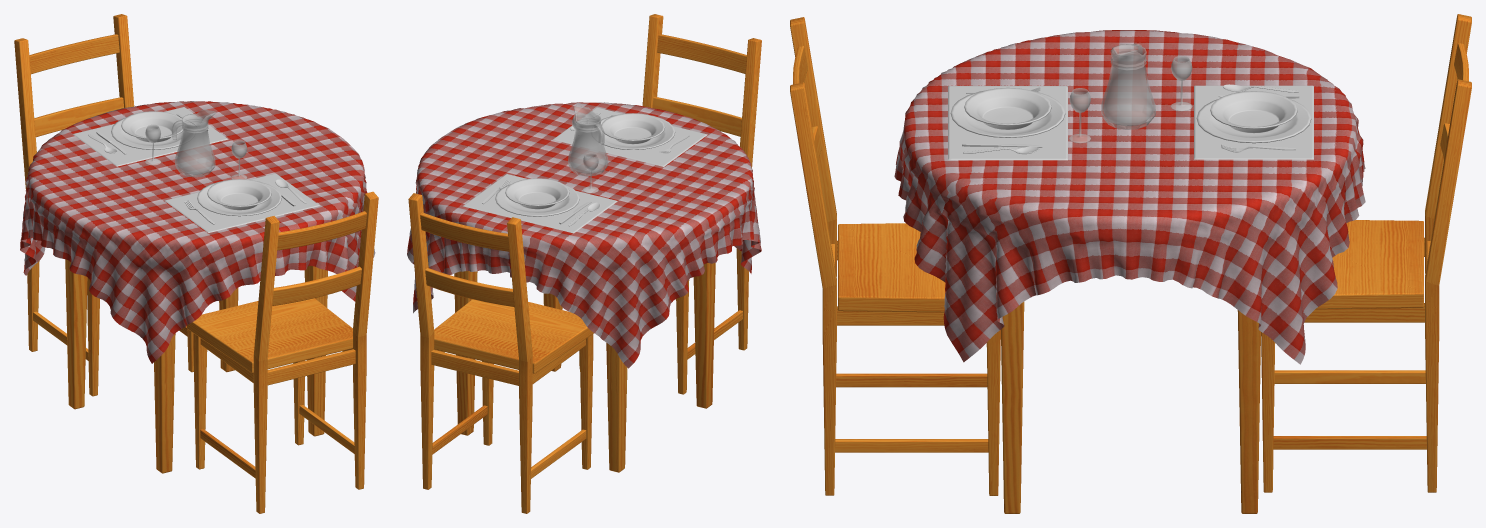
Rendered from diningtable_round_export.fbx.
3 views of the same model, side by side, from view 1: azimuth 30°, elevation 25°; view 2: azimuth 150°, elevation 25°; view 3: azimuth 270°, elevation 25° (orthographic). The views are drawn at different scales.
Parts seen in each view (by area): view 1: Plane, Chair, Chair2, Table, Mat_001, Pitcher, Mat_000, Soup_plate, Soup_plate2, Flat_plate, Flat_plate2; view 2: Plane, Chair2, Chair, Table, Mat_000, Mat_001, Pitcher, Soup_plate, Soup_plate2, Flat_plate2, Flat_plate; view 3: Plane, Chair, Chair2, Table, Mat_001, Mat_000, Pitcher, Soup_plate, Soup_plate2, Flat_plate2, Flat_plate.
Boxes of the visible parts, x1,y1,x2,y2 form: Plane: [20, 101, 375, 363]; Chair: [187, 191, 378, 513]; Chair2: [14, 14, 193, 396]; Table: [65, 259, 327, 473]; Mat_001: [164, 173, 319, 232]; Pitcher: [172, 109, 216, 177]; Mat_000: [73, 107, 228, 166]; Soup_plate: [207, 179, 271, 210]; Soup_plate2: [121, 111, 184, 142]; Flat_plate: [197, 181, 281, 216]; Flat_plate2: [111, 117, 191, 149]; Plane: [407, 102, 761, 368]; Chair2: [408, 193, 593, 513]; Chair: [579, 14, 761, 394]; Table: [454, 263, 715, 472]; Mat_000: [463, 174, 617, 233]; Mat_001: [552, 107, 707, 166]; Pitcher: [568, 105, 608, 176]; Soup_plate: [601, 113, 664, 144]; Soup_plate2: [505, 178, 569, 209]; Flat_plate2: [495, 184, 579, 216]; Flat_plate: [597, 115, 675, 149]; Plane: [894, 30, 1365, 364]; Chair: [790, 17, 1000, 495]; Chair2: [1261, 14, 1471, 492]; Table: [1001, 302, 1260, 513]; Mat_001: [948, 86, 1067, 160]; Mat_000: [1194, 85, 1313, 159]; Pitcher: [1101, 43, 1155, 129]; Soup_plate: [964, 87, 1051, 129]; Soup_plate2: [1210, 91, 1297, 133]; Flat_plate2: [1196, 99, 1311, 143]; Flat_plate: [950, 91, 1065, 137].
Size of the model in its own units: 1.01 by 0.995 by 1.48.
7 materials, 3 textured.
